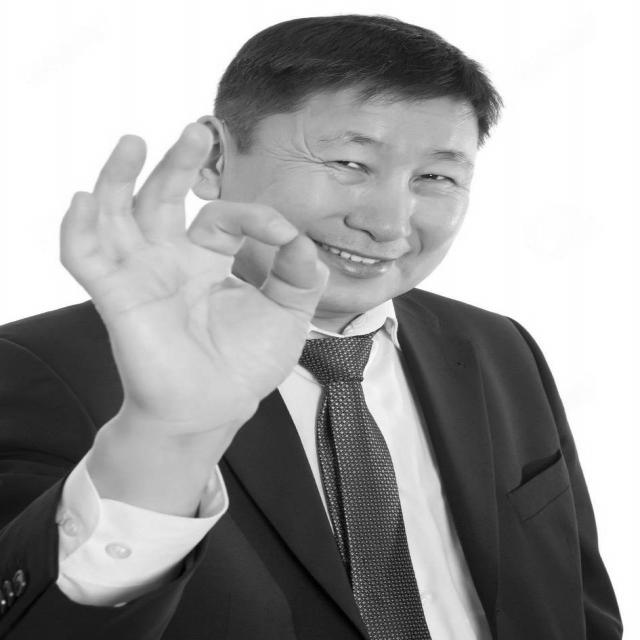perfect: (50, 113, 336, 445)
